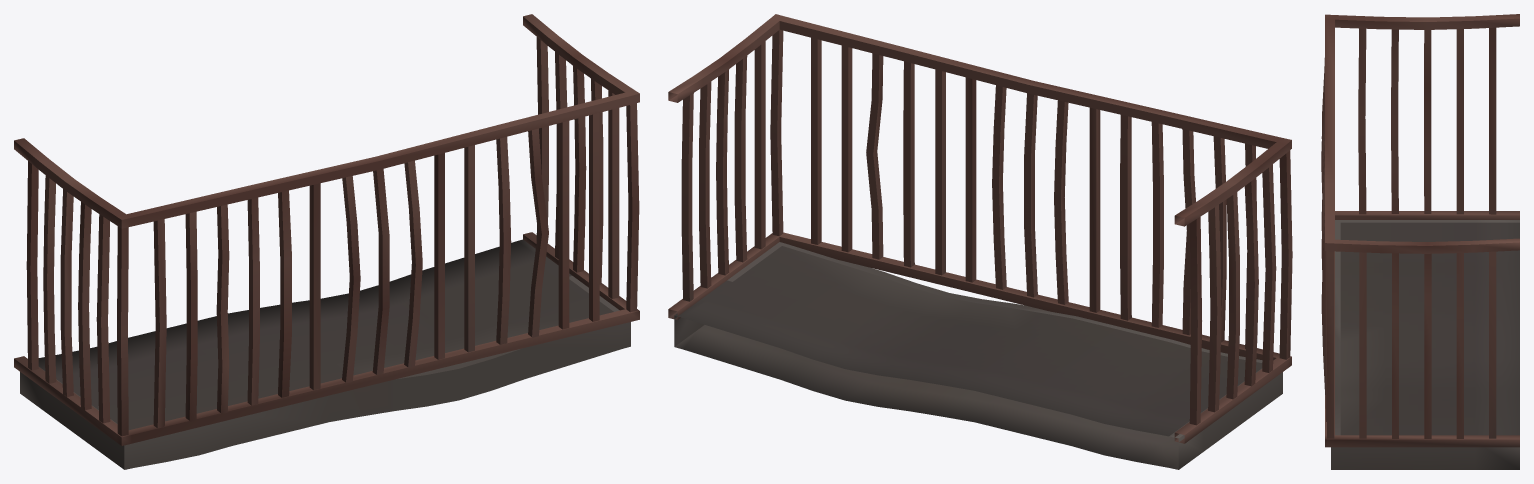
Rendered from open balcony 1.fbx.
3 renders of one model, left to right at view 1: azimuth 30°, elevation 25°; view 2: azimuth 150°, elevation 25°; view 3: azimuth 270°, elevation 25°, orthographic. The views are drawn at different scales.
Parts seen in each view (by area): view 1: Cube.520; view 2: Cube.520; view 3: Cube.520.
Boxes of the visible parts, bbox=[...] form: Cube.520: bbox=[14, 14, 639, 469]; Cube.520: bbox=[668, 14, 1292, 469]; Cube.520: bbox=[1321, 14, 1519, 469].
Size of the model in its own units: 709 by 346 by 258.
